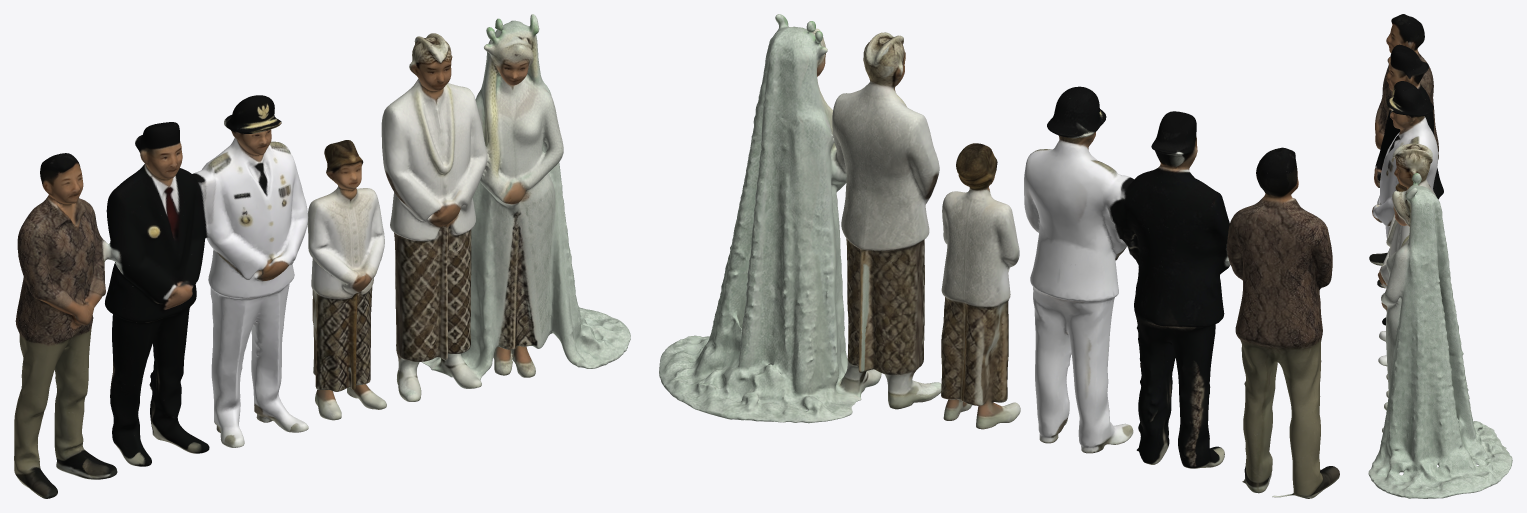
The model's file is penunggang singa.glb.
3 renders of one model, left to right at view 1: azimuth 30°, elevation 25°; view 2: azimuth 150°, elevation 25°; view 3: azimuth 270°, elevation 25°, orthographic. The views are drawn at different scales.
Visible parts, largest first — view 1: mesh_node; view 2: mesh_node; view 3: mesh_node.
Part boxes in pixels (<box>): mesh_node: <box>14,14,630,498</box>; mesh_node: <box>659,14,1339,498</box>; mesh_node: <box>1368,14,1512,498</box>.
Size of the model in its own units: 1.9 by 1.02 by 0.4761.
Materials: 1 (1 with a texture image).
